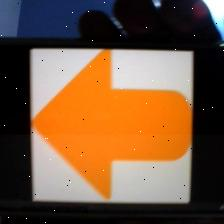left: (35, 51, 189, 197)
